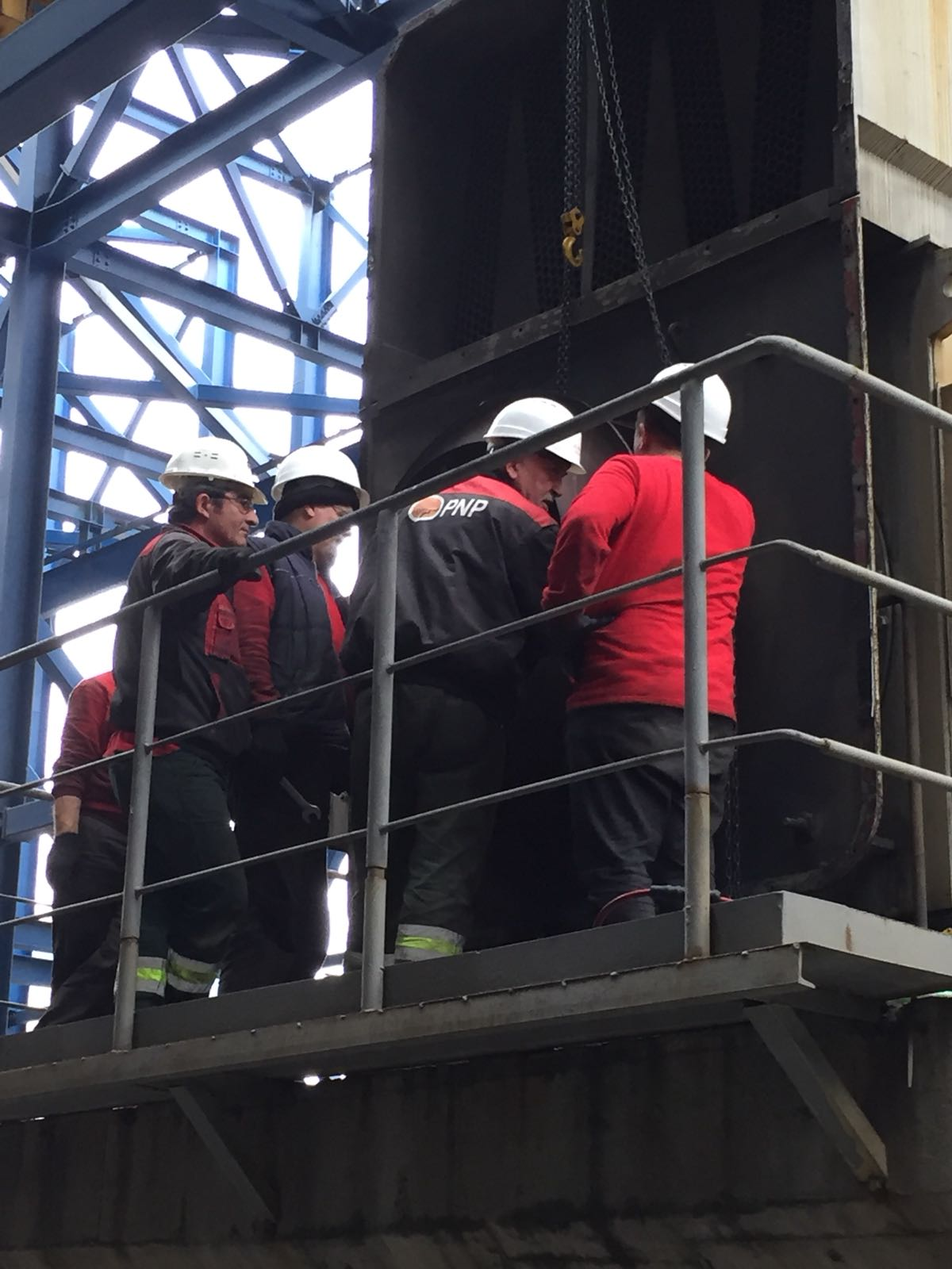safety_helmet: (482, 396, 586, 476), (158, 435, 268, 505), (646, 361, 732, 445), (269, 444, 366, 506)
